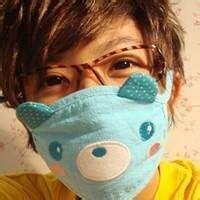OK: (19, 33, 182, 196)
